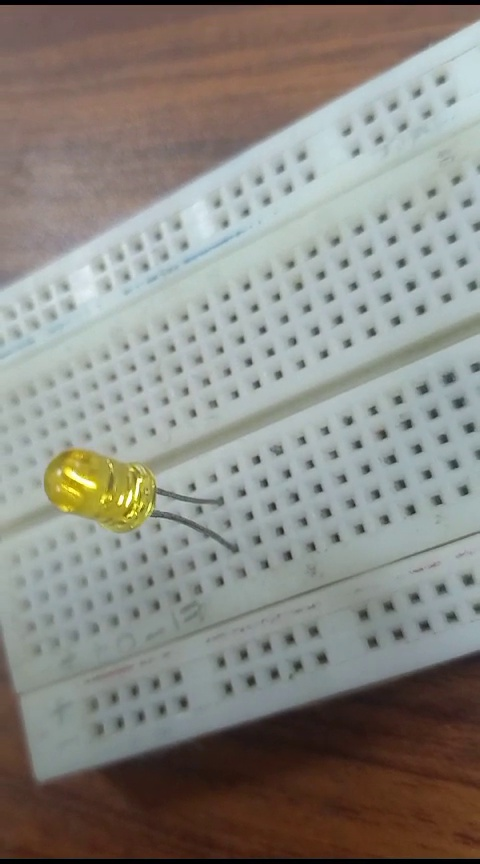LED: (43, 441, 230, 559)
